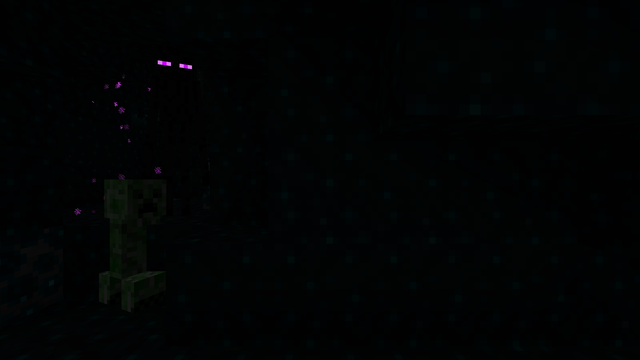creepers: (95, 173, 171, 309)
endermens: (148, 40, 201, 217)
